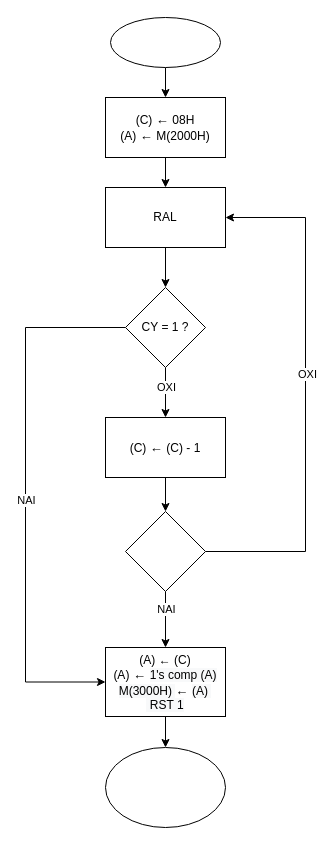
Some shapes in this 334 by 845 pixel diagram are drawn without their labels. The centre of each missing label's shape, as x and y in pixels:
END: (x=165, y=787)
START: (x=165, y=42)
Z = 1 ?: (x=165, y=551)
